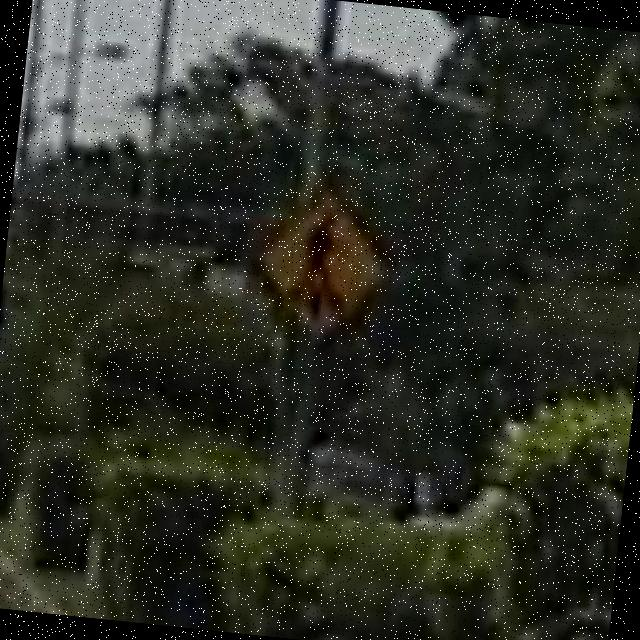Przejscie dla pieszych: (258, 189, 392, 345)
